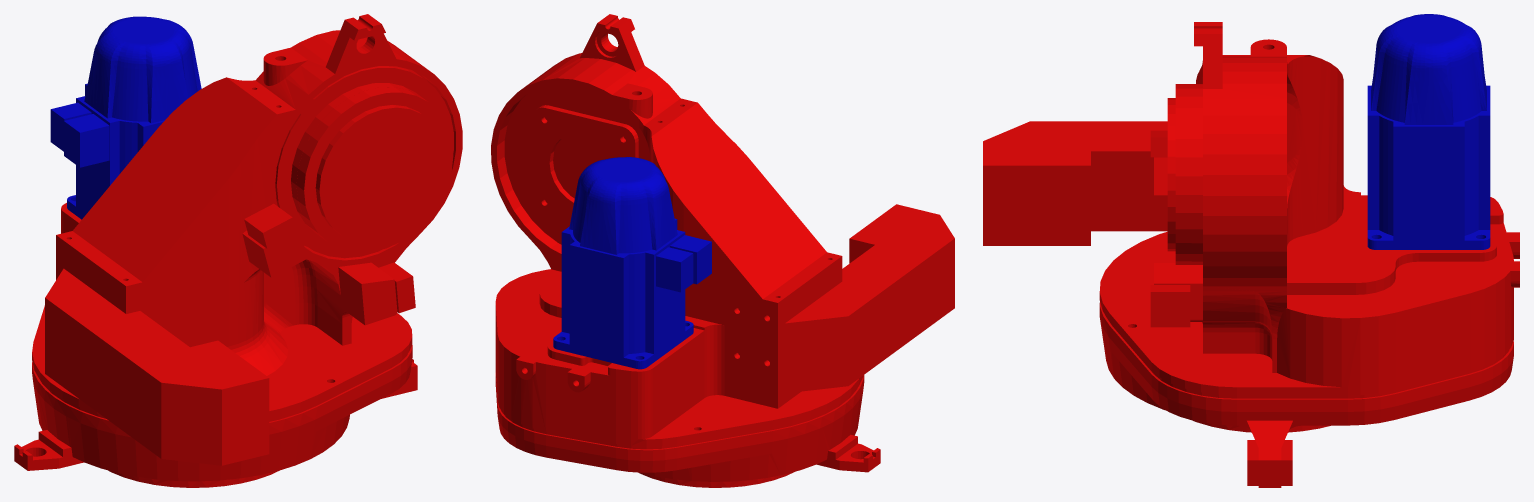
Rendered from axes_1.dae.
The picture shows the model from 3 angles, left to right: view 1: azimuth 30°, elevation 25°; view 2: azimuth 150°, elevation 25°; view 3: azimuth 270°, elevation 25°; orthographic projection. The views are drawn at different scales.
Visible parts, largest first — view 1: ShapeIndexedFaceSet_001, ShapeIndexedFaceSet_002, ShapeIndexedFaceSet; view 2: ShapeIndexedFaceSet_001, ShapeIndexedFaceSet_002, ShapeIndexedFaceSet; view 3: ShapeIndexedFaceSet_001, ShapeIndexedFaceSet_002, ShapeIndexedFaceSet.
Part boxes in pixels (left/top/right/bottom): ShapeIndexedFaceSet_001: left=32, top=14, right=462, bottom=465; ShapeIndexedFaceSet_002: left=50, top=16, right=201, bottom=219; ShapeIndexedFaceSet: left=14, top=345, right=417, bottom=487; ShapeIndexedFaceSet_001: left=491, top=14, right=954, bottom=449; ShapeIndexedFaceSet_002: left=553, top=157, right=711, bottom=369; ShapeIndexedFaceSet: left=495, top=373, right=880, bottom=487; ShapeIndexedFaceSet_001: left=983, top=22, right=1519, bottom=398; ShapeIndexedFaceSet_002: left=1367, top=14, right=1490, bottom=249; ShapeIndexedFaceSet: left=1099, top=302, right=1513, bottom=487.
Size of the model in its own units: 439 by 472 by 417.
